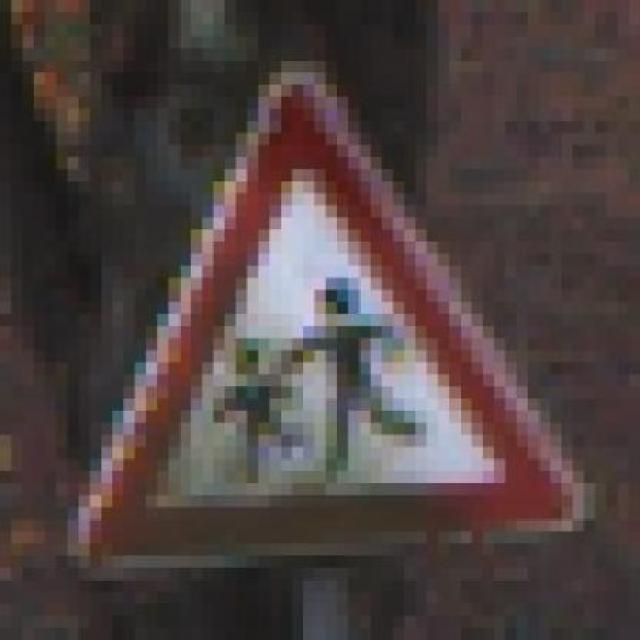Beware of children: (68, 72, 595, 568)
